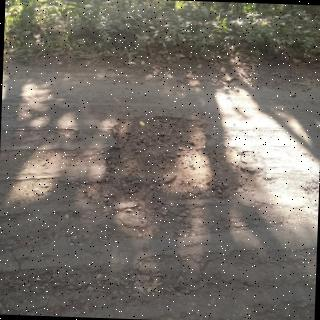pothole: (75, 114, 257, 213)
